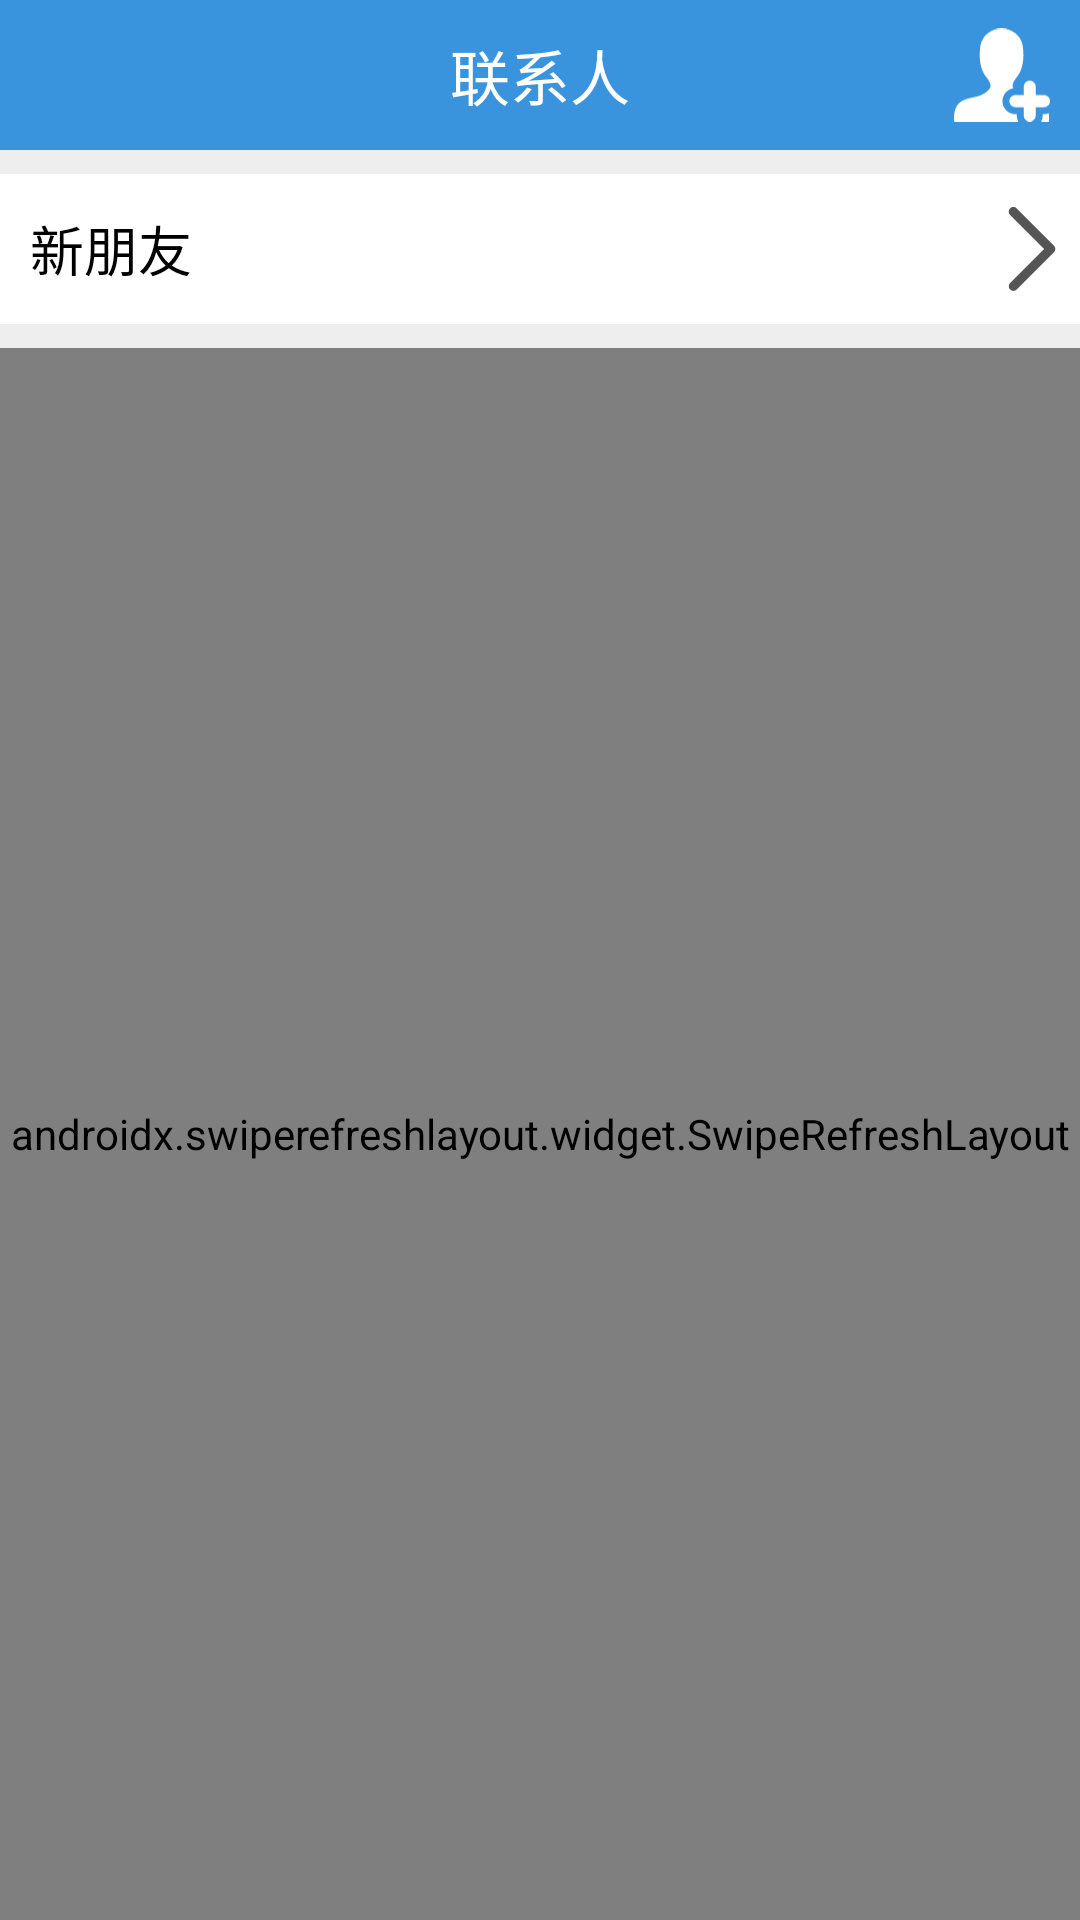

Screen size 1080x1920. Icon name, then its center in pixels as point (x, y):
add user: point (1002, 75)
